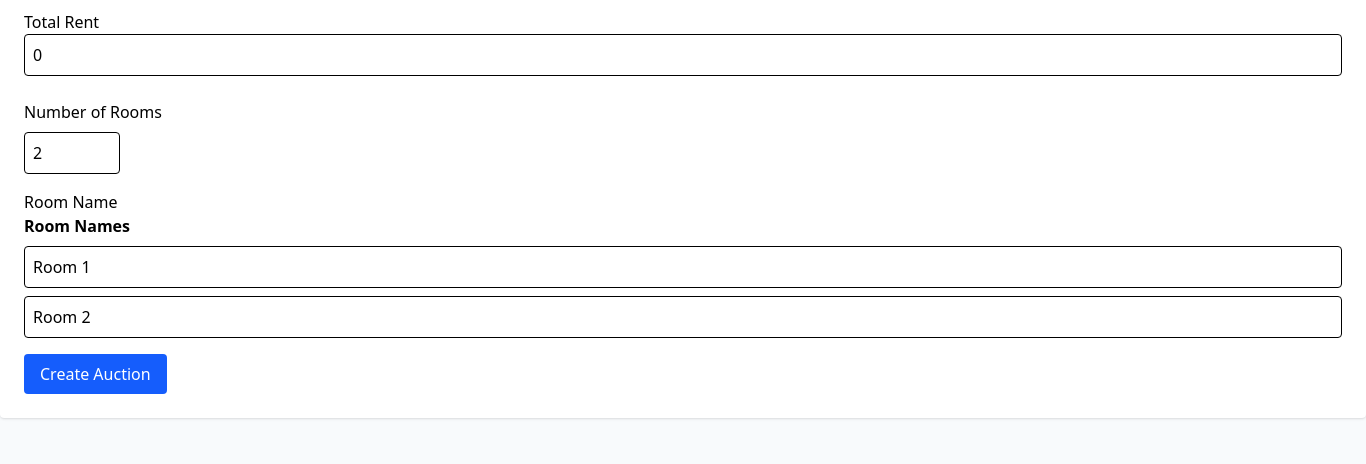
Test: AuctionCreator - Test button functionality › shows error when room names are empty
Replace the text in the number field showing "0" with "1200": [683, 55] box top-left (24, 34), bottom-right (1342, 76)
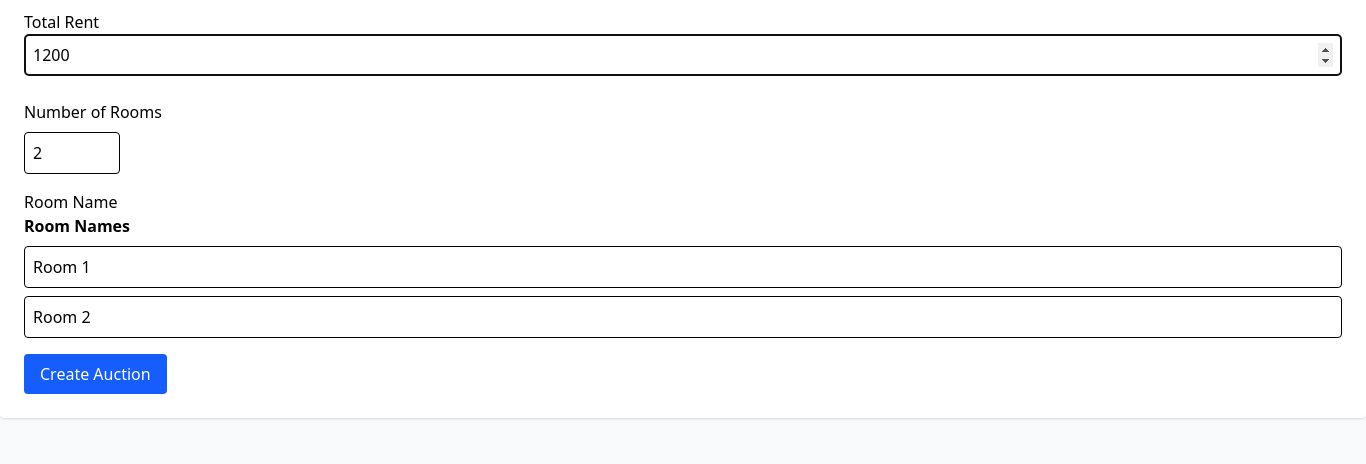
Clear the field showing "Room": [683, 267] box top-left (24, 246), bottom-right (1342, 288)
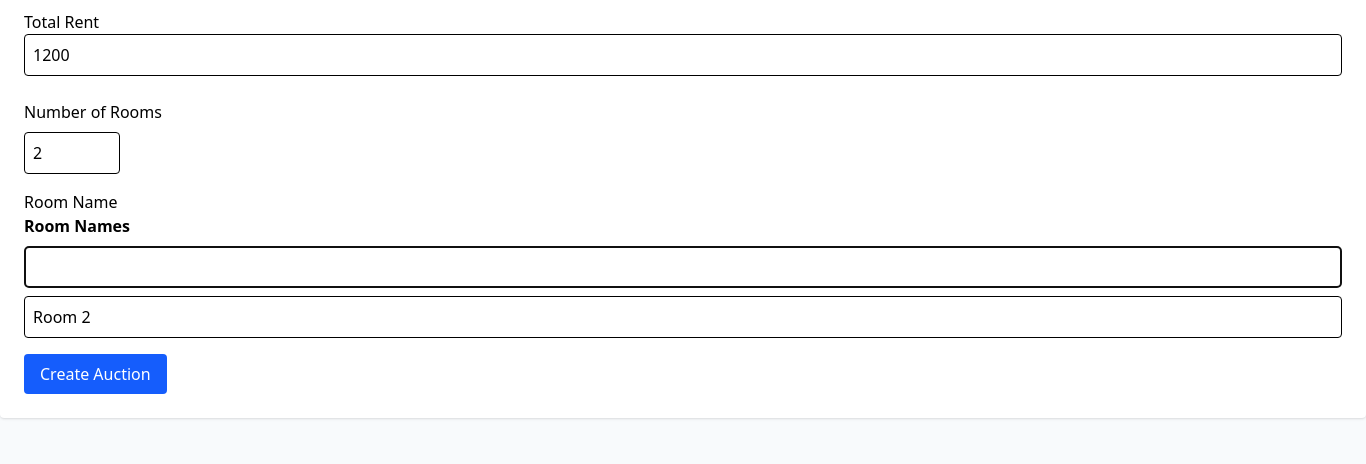
Clear the field showing "Room": [683, 317] box top-left (24, 296), bottom-right (1342, 338)
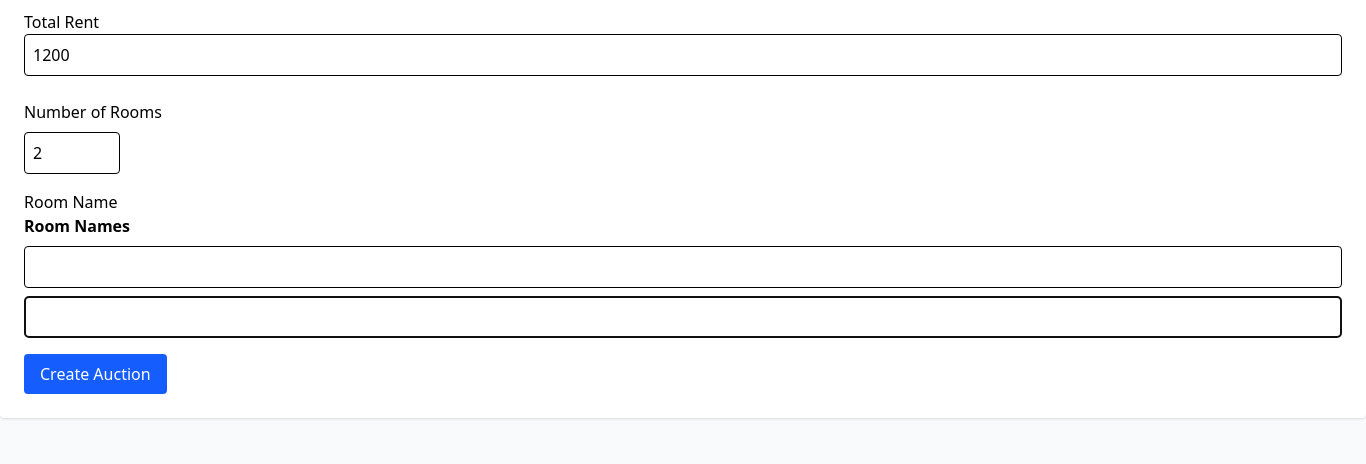
Click the button "Create Auction": [95, 374] box top-left (24, 354), bottom-right (167, 394)
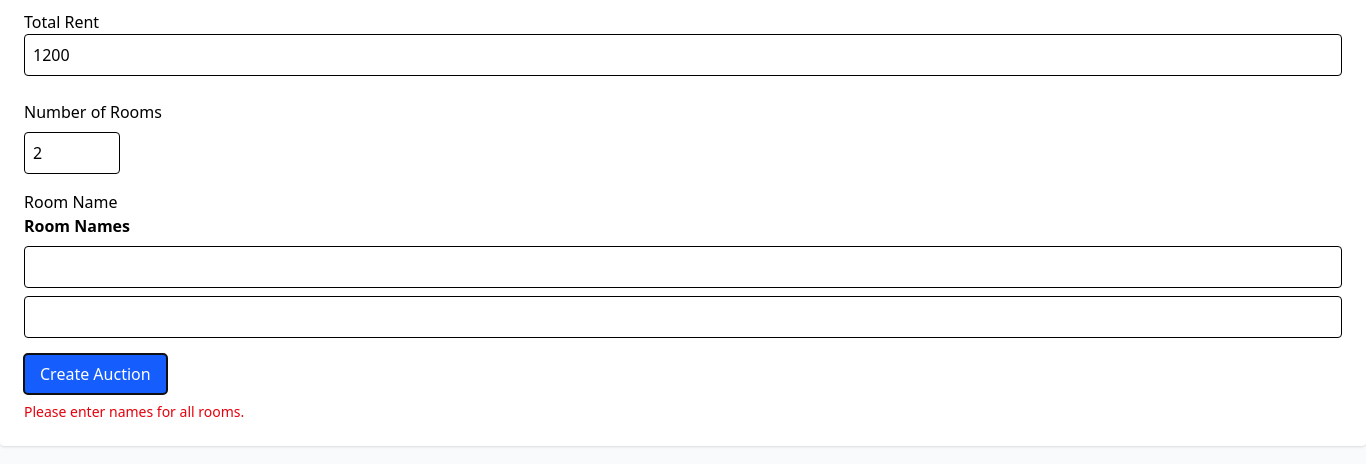
Result: the text "Please enter names for all rooms." is shown at top-left (24, 402), bottom-right (244, 421)
